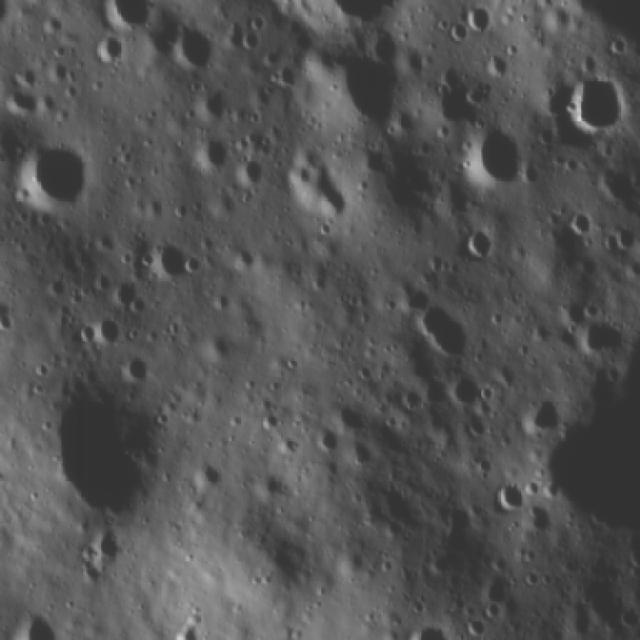crater: (32, 383, 185, 539), (319, 52, 403, 132), (17, 133, 91, 210), (459, 122, 533, 195), (552, 67, 623, 138), (284, 157, 361, 220), (407, 300, 473, 362), (166, 16, 214, 72), (578, 310, 628, 361), (96, 0, 158, 37), (592, 162, 638, 206), (150, 236, 192, 284), (522, 396, 564, 442), (492, 473, 530, 521), (456, 224, 499, 265), (330, 398, 373, 438), (192, 81, 234, 121), (189, 136, 229, 176), (447, 370, 487, 410), (195, 454, 230, 497), (86, 29, 129, 63), (117, 346, 151, 388), (232, 153, 268, 192), (202, 326, 238, 365), (413, 368, 449, 406), (105, 276, 141, 313), (90, 312, 125, 350), (465, 0, 500, 38), (5, 85, 43, 118), (480, 42, 511, 81), (442, 17, 480, 48), (268, 58, 302, 91), (92, 528, 125, 562), (258, 469, 288, 506), (608, 218, 637, 256), (11, 62, 43, 95), (566, 202, 592, 242), (346, 354, 377, 384), (394, 381, 423, 412), (230, 245, 258, 277), (208, 287, 238, 315), (253, 411, 282, 437), (476, 593, 506, 618), (521, 468, 542, 501), (179, 250, 203, 278), (127, 294, 151, 320), (239, 29, 263, 52), (246, 11, 272, 32), (464, 617, 488, 638), (169, 200, 191, 222)
